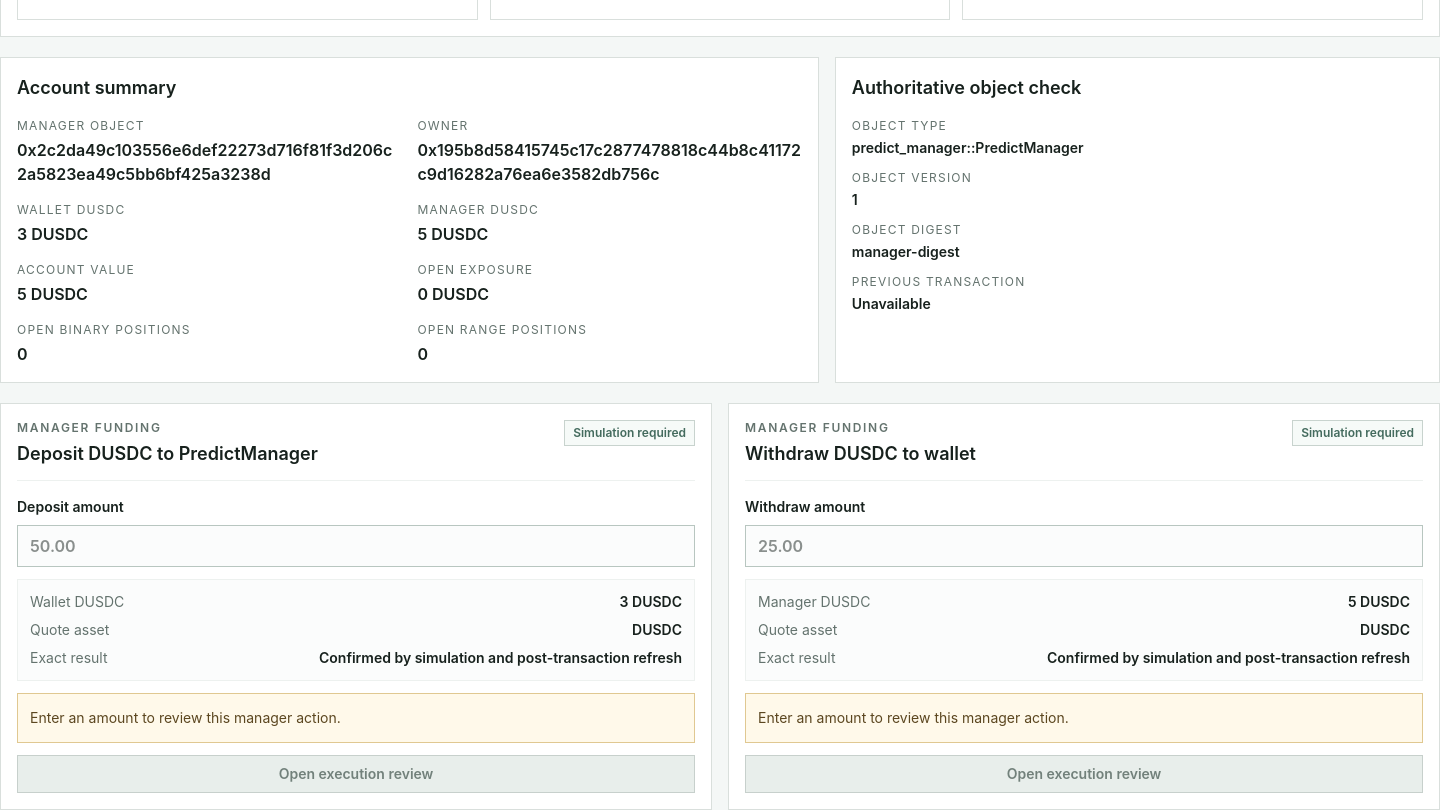
PredictManagerPage › keeps loaded manager account data visible when a query still reports loading
(page scrolled)
Check: the 1st text "5 DUSDC" is shown, box [417,224,488,244]
Type "1.00" into the field labelled "Withdraw amount" at (1084, 546), box [745,525,1423,567]
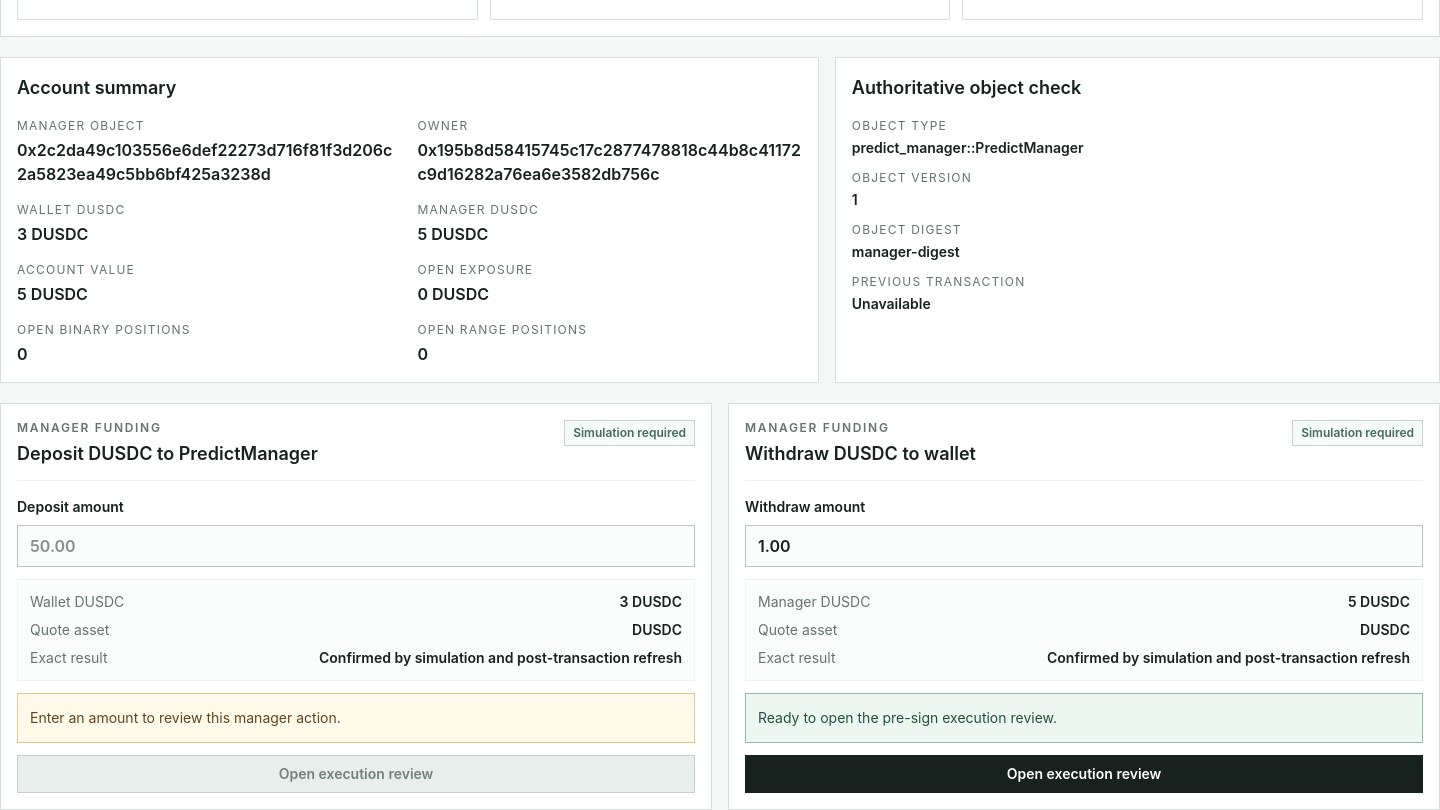
Check: the text "Ready to open the pre-sign execution review." is shown, box [745,693,1423,743]
Check: the button "Open execution review" below "Withdraw amount" is enabled, box [745,755,1423,793]
